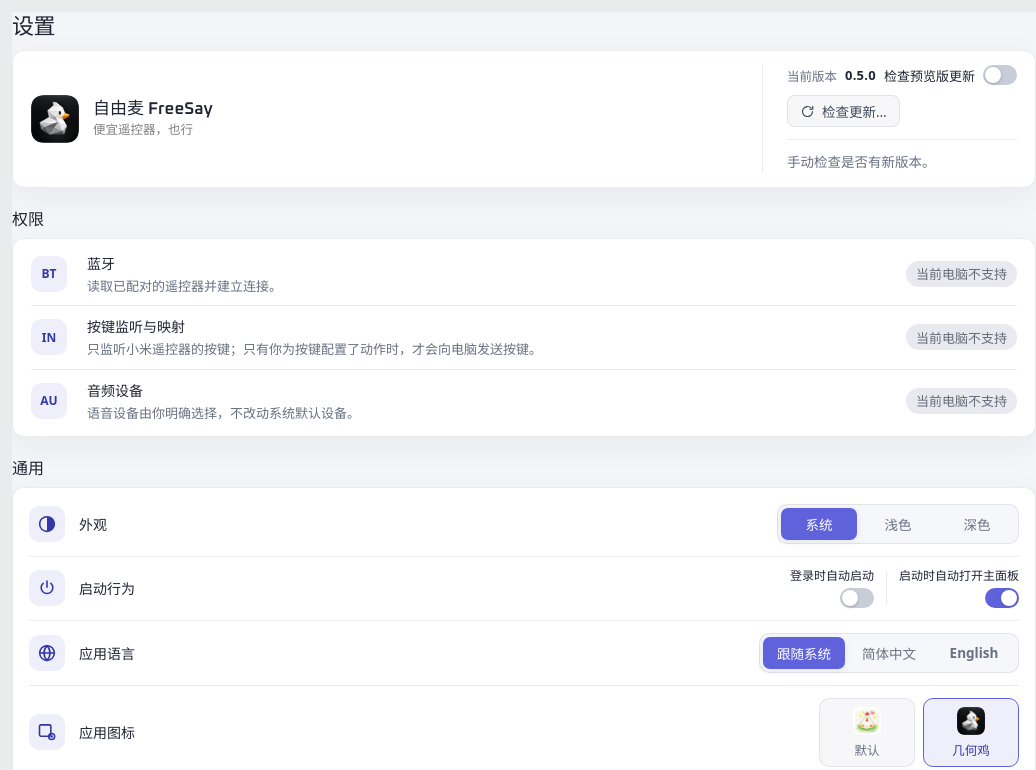
it: settings page › 启动时自动打开主面板保存失败时就地报错并保持原状态
This screenshot has width=1036, height=770.
Click the checkbox named "open-window-at-launch".
click(1002, 598)  # box [985, 588, 1019, 608]
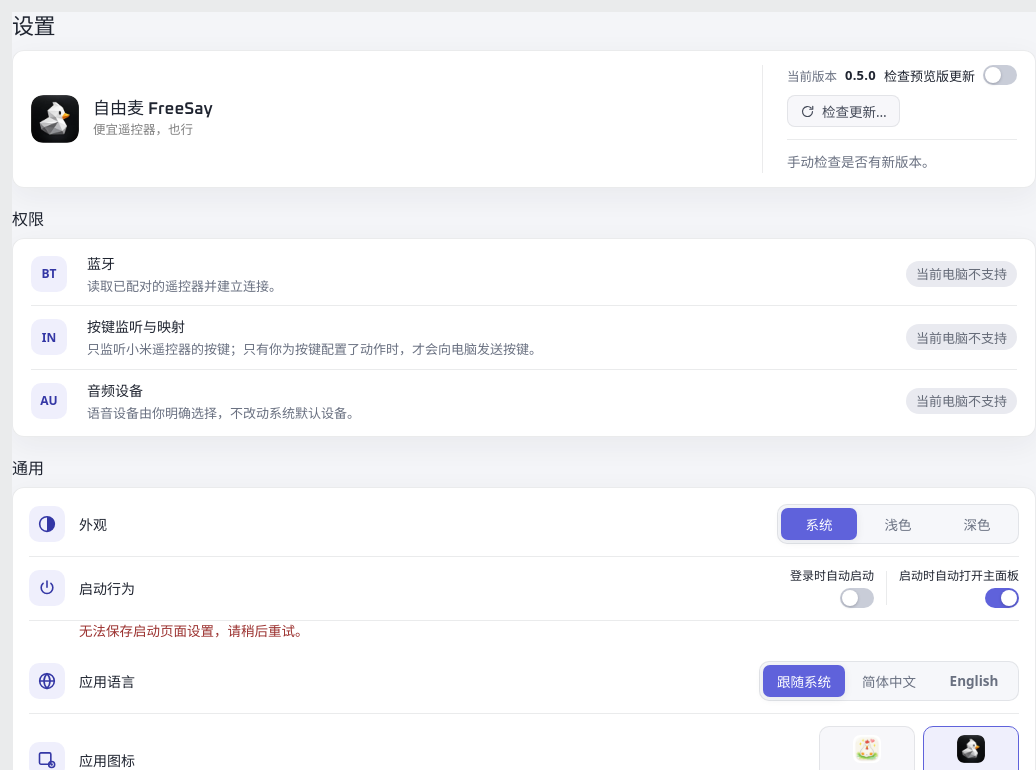
Expected: the text "无法保存启动页面设置" is shown, [79, 622, 308, 640]
